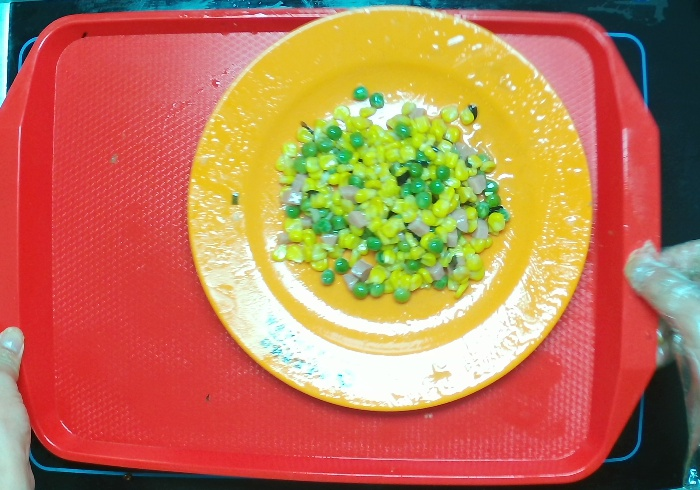YKMZ-Ju_Se_Mian_Pan: (188, 7, 592, 410)
